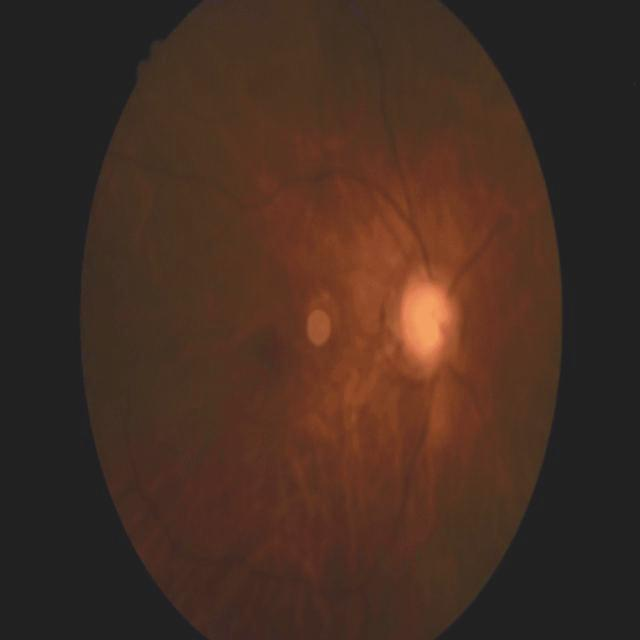cup: (401, 281, 450, 360)
disk: (396, 266, 464, 376)
